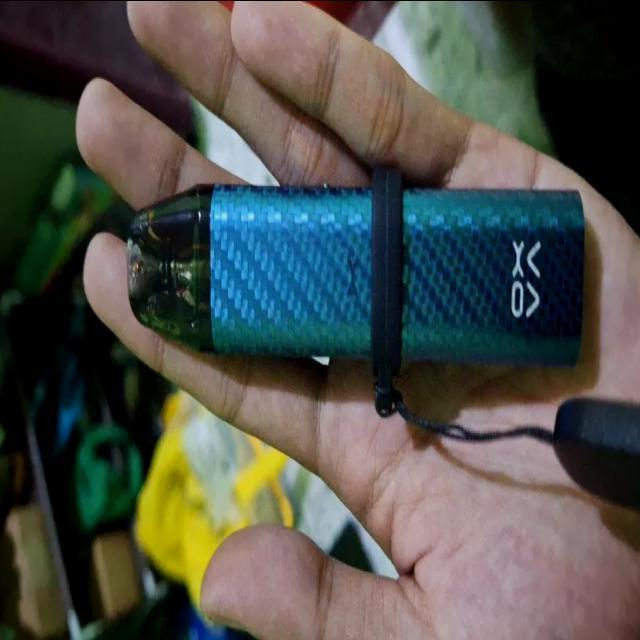Hazard: (127, 184, 584, 368)
